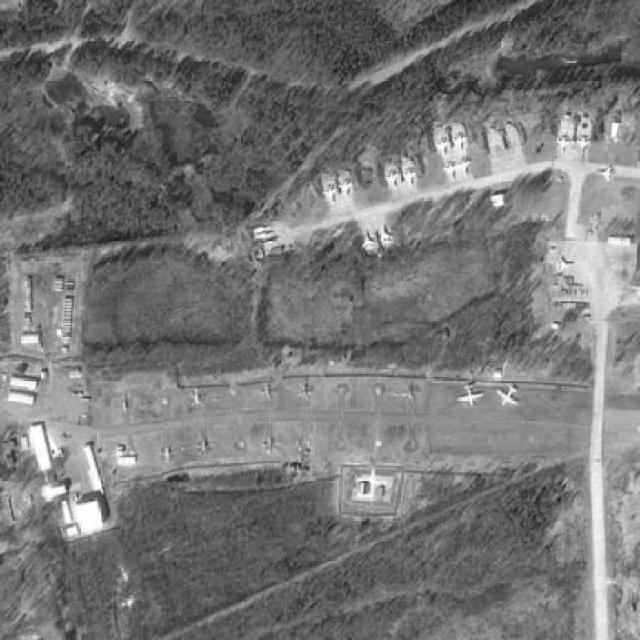airplane: (457, 384, 488, 409), (496, 385, 521, 412), (554, 134, 574, 159), (377, 223, 396, 248), (577, 134, 594, 160), (360, 231, 379, 254), (435, 137, 452, 160), (337, 178, 356, 198), (597, 166, 617, 185), (555, 256, 575, 275), (385, 170, 400, 193), (458, 156, 475, 175), (403, 167, 417, 189), (454, 134, 468, 154), (325, 185, 337, 205), (445, 163, 459, 180)
